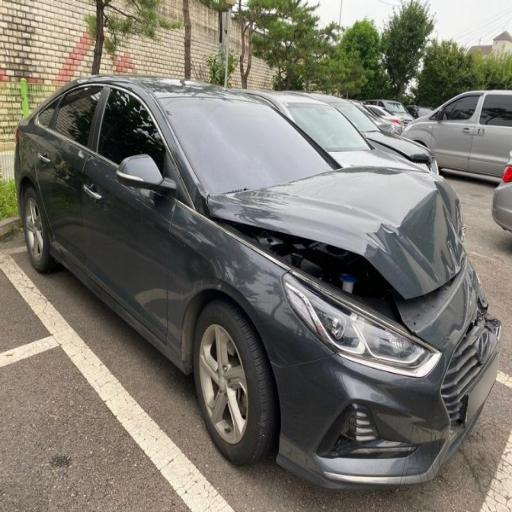broken: (397, 305, 512, 446)
dent: (242, 108, 469, 300)
scratch: (190, 245, 298, 311)
